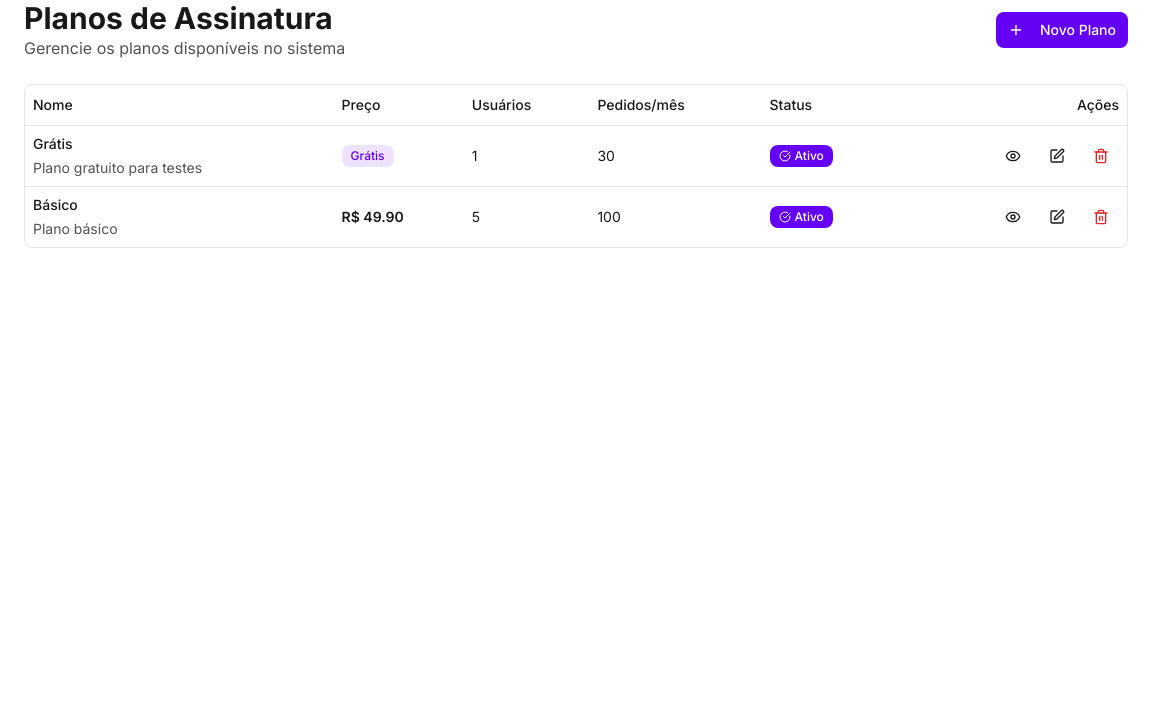
Test case: Admin Plans Page › abre modal de editar plano
Expected: the text "Plano gratuito para testes" is shown, x1=33 y1=158 x2=202 y2=176
Click the 2nd button: x=1057, y=156 x1=1039 y1=138 x2=1075 y2=174
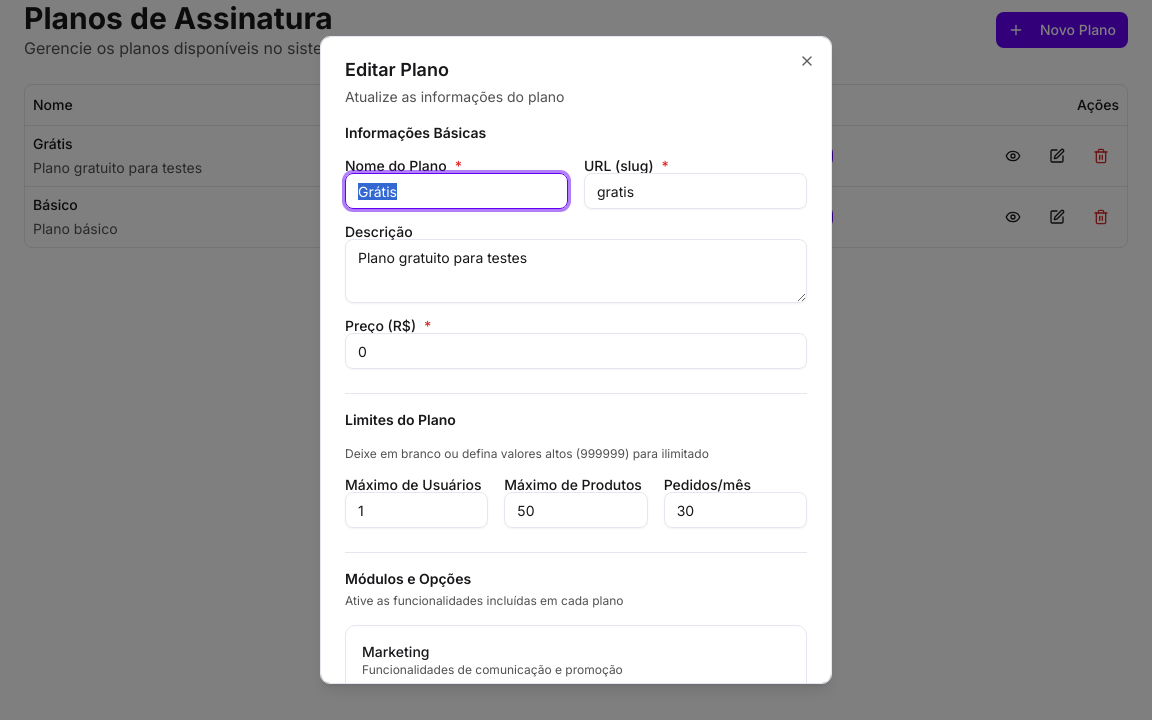
Result: the heading "Editar Plano" is shown at x1=345 y1=59 x2=449 y2=80
Result: the field showing "Grátis" is shown at x1=345 y1=173 x2=568 y2=209
